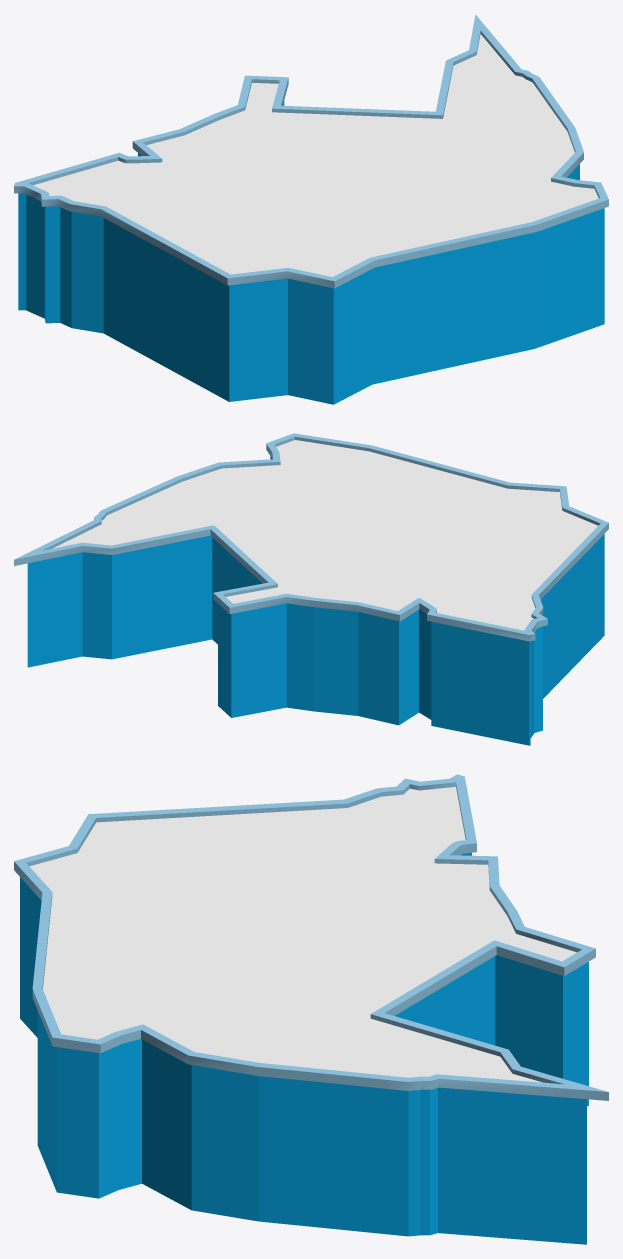
3 renders of one model, top to bottom at view 1: azimuth 30°, elevation 25°; view 2: azimuth 150°, elevation 25°; view 3: azimuth 270°, elevation 25°, orthographic. The views are drawn at different scales.
Parts seen in each view (by area): view 1: slide, celling, 扫描.4; view 2: slide, celling, 扫描.4; view 3: celling, slide, 扫描.4.
Part boxes in pixels (x1,y1,x2,y2): slide: (18,101,604,404); celling: (33,34,598,276); 扫描.4: (14,14,608,288); slide: (27,456,604,745); celling: (53,440,597,630); 扫描.4: (14,433,608,641); celling: (29,787,576,1082); slide: (20,852,588,1244); 扫描.4: (14,774,608,1100).
Bounding box in the file's own units: 224 × 51.47 × 177.
